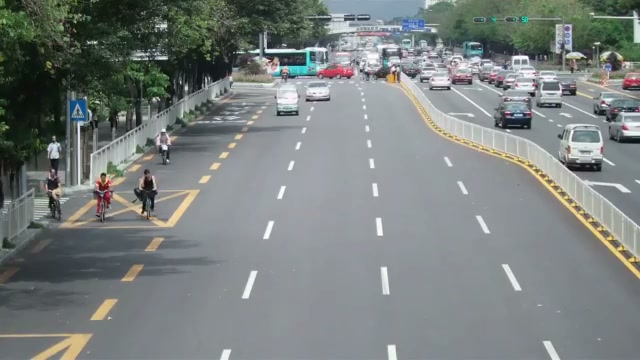bus: (266, 48, 327, 78), (462, 42, 483, 59)
car: (558, 123, 605, 171), (493, 98, 533, 129), (608, 110, 640, 143), (605, 97, 639, 122), (592, 90, 625, 115), (275, 88, 299, 116), (304, 82, 331, 101), (428, 74, 452, 90), (452, 68, 473, 85), (621, 72, 640, 90), (417, 66, 437, 82), (559, 80, 577, 96)
pedestrian: (136, 168, 158, 217), (93, 172, 114, 221), (44, 168, 62, 214), (156, 128, 172, 164), (47, 136, 61, 174)
truck: (535, 77, 562, 108)
